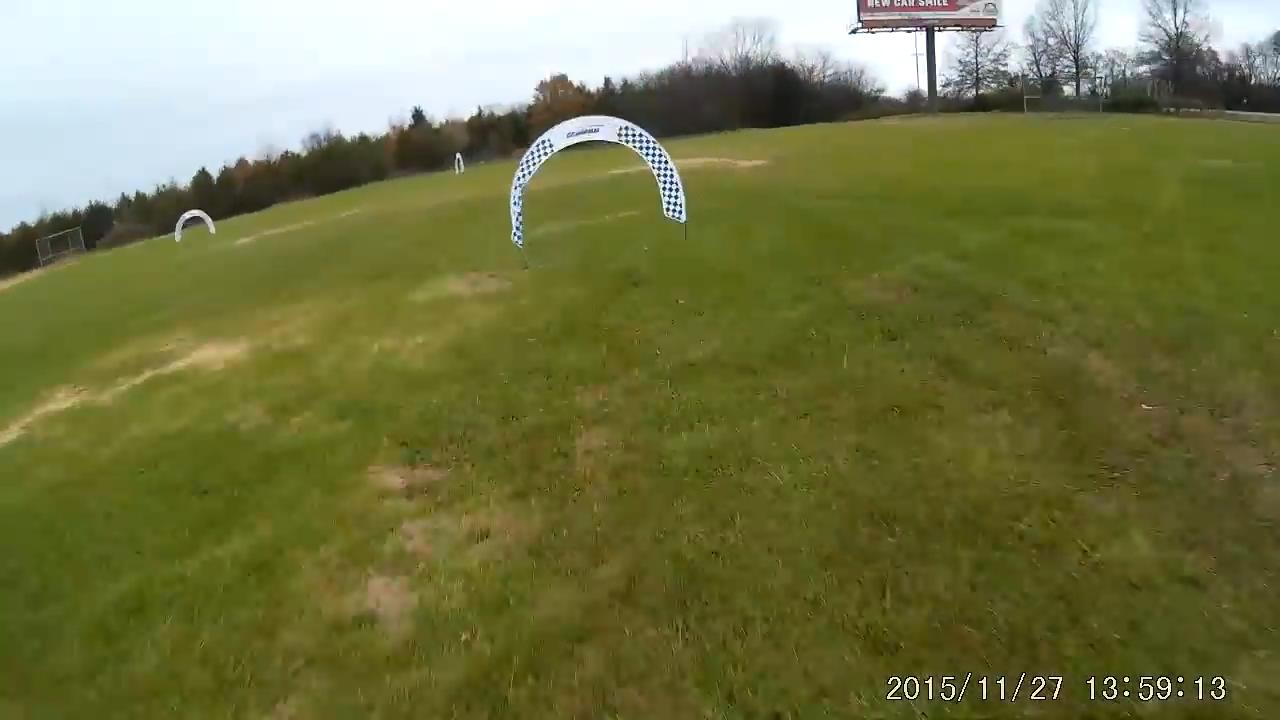gate: (509, 115, 693, 247)
